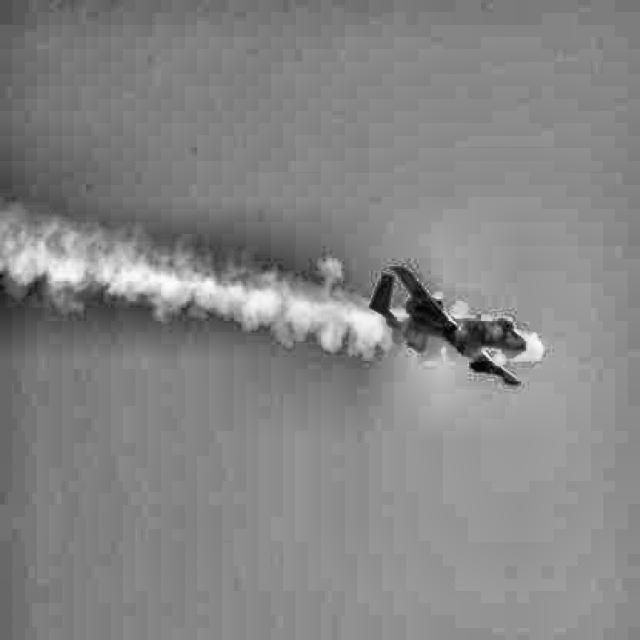A10: (370, 266, 528, 386)
